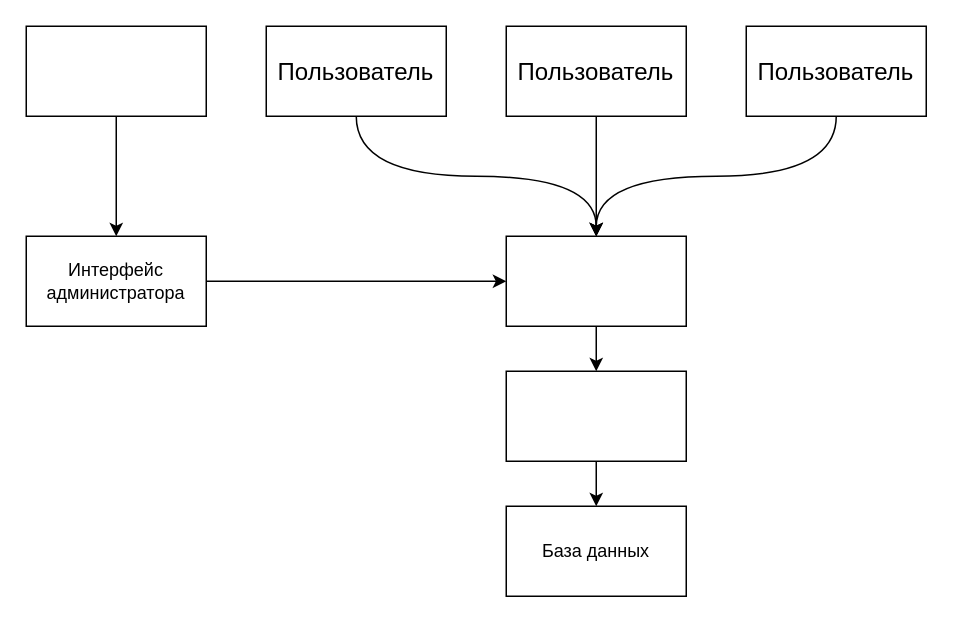
The diagram is 953 pixels wide and 623 high, and some of its shapes have lost their labels. The shapes that lost their labels are listed below. From the top down, each one's centre as x and y in pixels, then its label:
[115,70]: Администратор
[595,280]: Пользовательский интерфейс
[595,415]: Система проверки доступа
